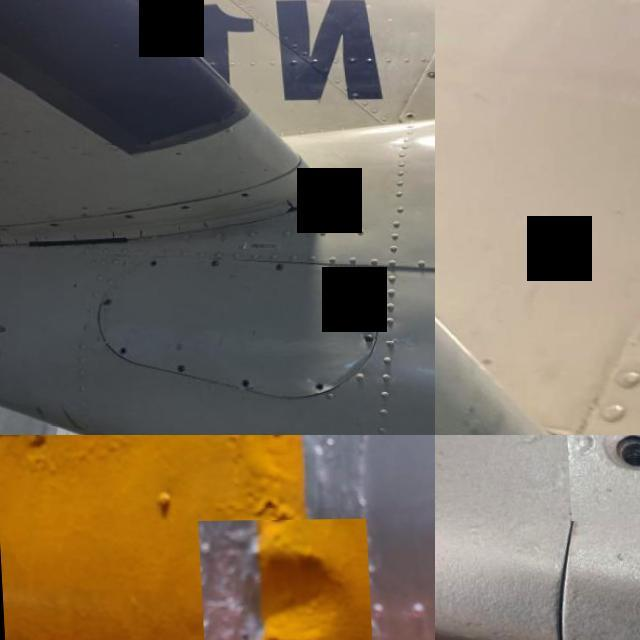Dent: (195, 520, 370, 640)
Missing_Fastener: (563, 435, 640, 522), (234, 379, 248, 391), (306, 384, 321, 395), (112, 346, 126, 356), (399, 114, 414, 123), (335, 280, 348, 287), (118, 215, 130, 222), (143, 260, 153, 268), (238, 194, 247, 199), (176, 207, 188, 210)
